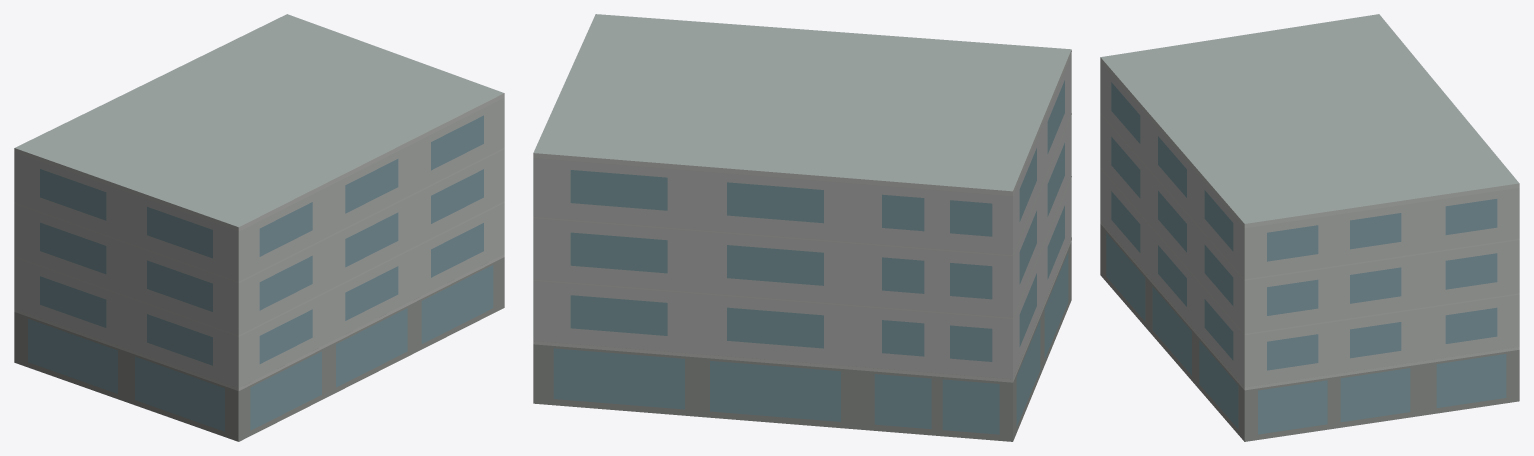
The model's file is survey-upis-32648375.glb.
3 renders of one model, left to right at view 1: azimuth 30°, elevation 25°; view 2: azimuth 150°, elevation 25°; view 3: azimuth 270°, elevation 25°, orthographic. The views are drawn at different scales.
Visible parts, largest first — view 1: survey-upis-32648375.tmp; view 2: survey-upis-32648375.tmp; view 3: survey-upis-32648375.tmp.
Part boxes in pixels (left/top/right/bottom): survey-upis-32648375.tmp: left=14, top=14, right=504, bottom=441; survey-upis-32648375.tmp: left=533, top=14, right=1071, bottom=441; survey-upis-32648375.tmp: left=1100, top=14, right=1519, bottom=441.
Bounding box in the file's own units: 25.23 × 12.2 × 21.29.
